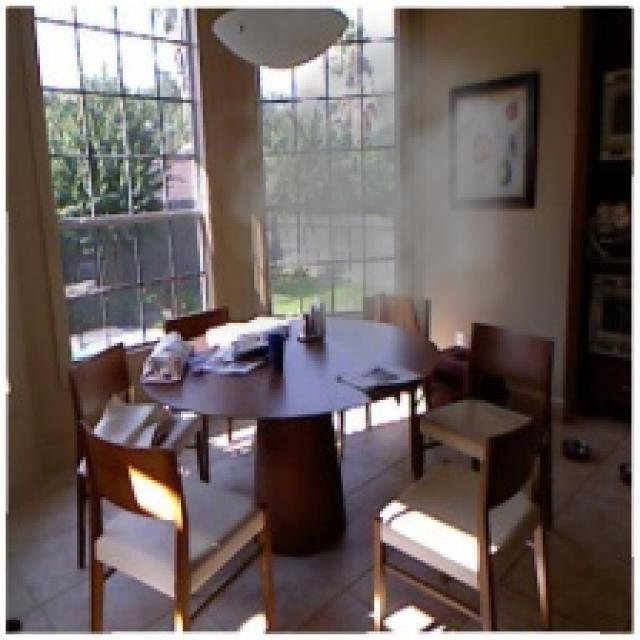smoke: (189, 6, 534, 383)
